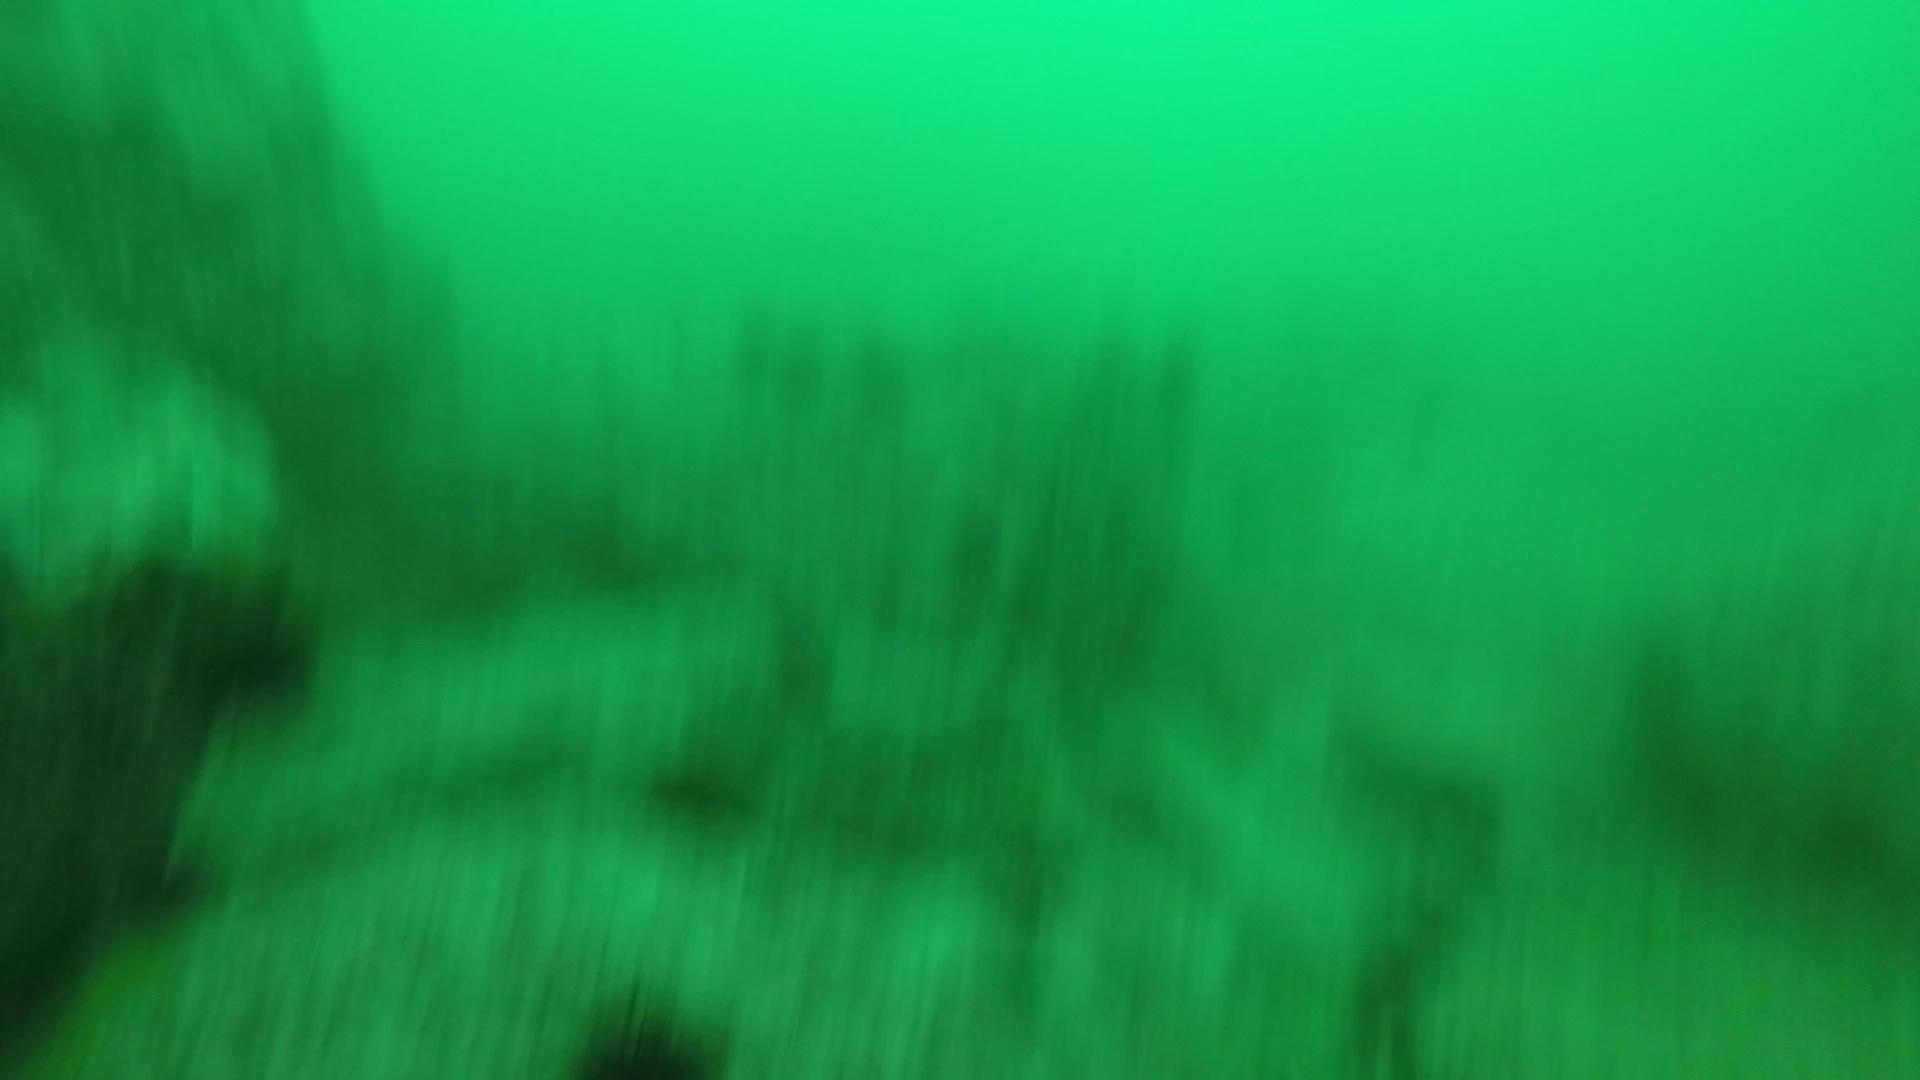echinus: (175, 576, 327, 725), (558, 990, 736, 1077), (641, 736, 761, 836)
